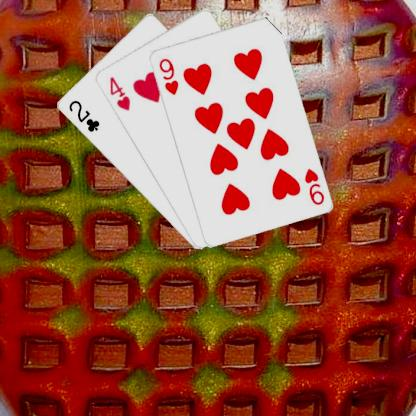2C: (66, 98, 101, 134)
4H: (106, 74, 132, 112)
9H: (156, 55, 180, 96), (301, 166, 325, 206)
